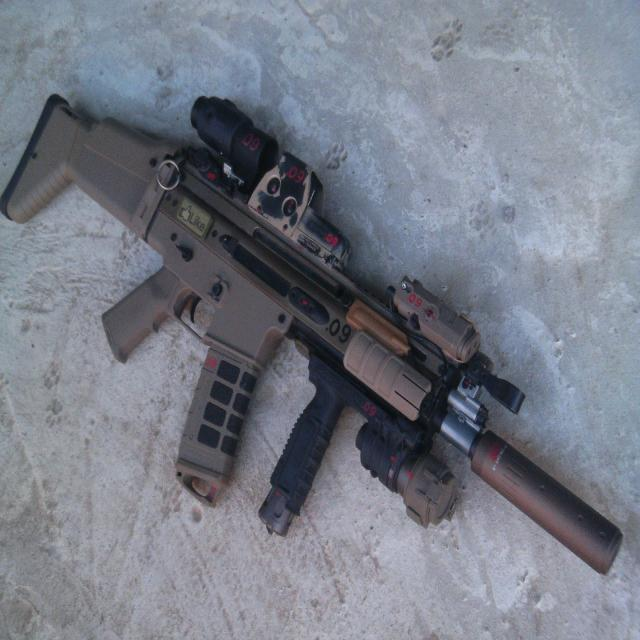firearm: (1, 92, 622, 576)
